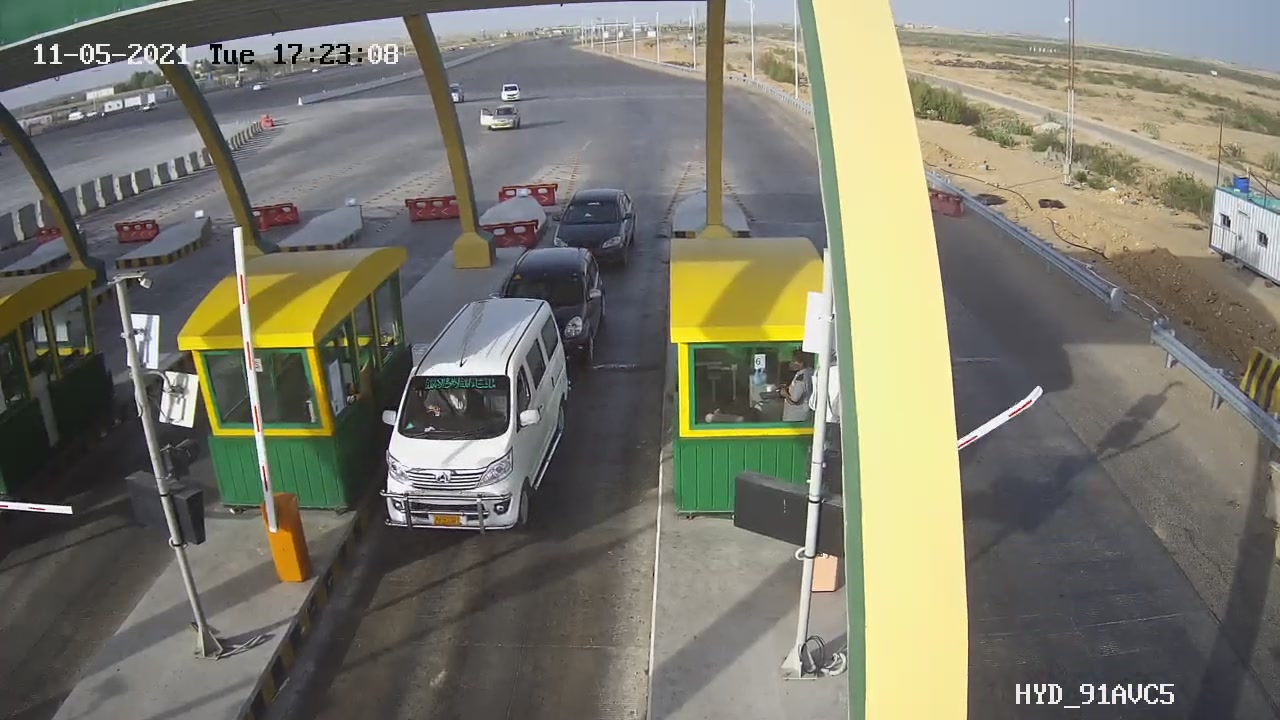F1: (538, 179, 650, 278)
